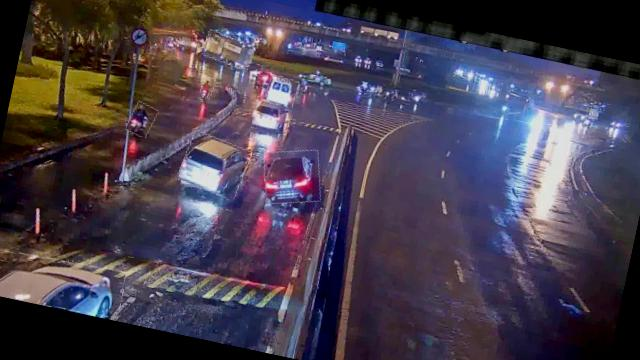Bike: (126, 100, 158, 138), (198, 76, 215, 101)
Bus: (260, 74, 299, 108)
Car: (0, 245, 127, 320), (177, 132, 252, 200), (256, 142, 328, 210), (250, 96, 292, 136)
Truck: (200, 30, 256, 70)
